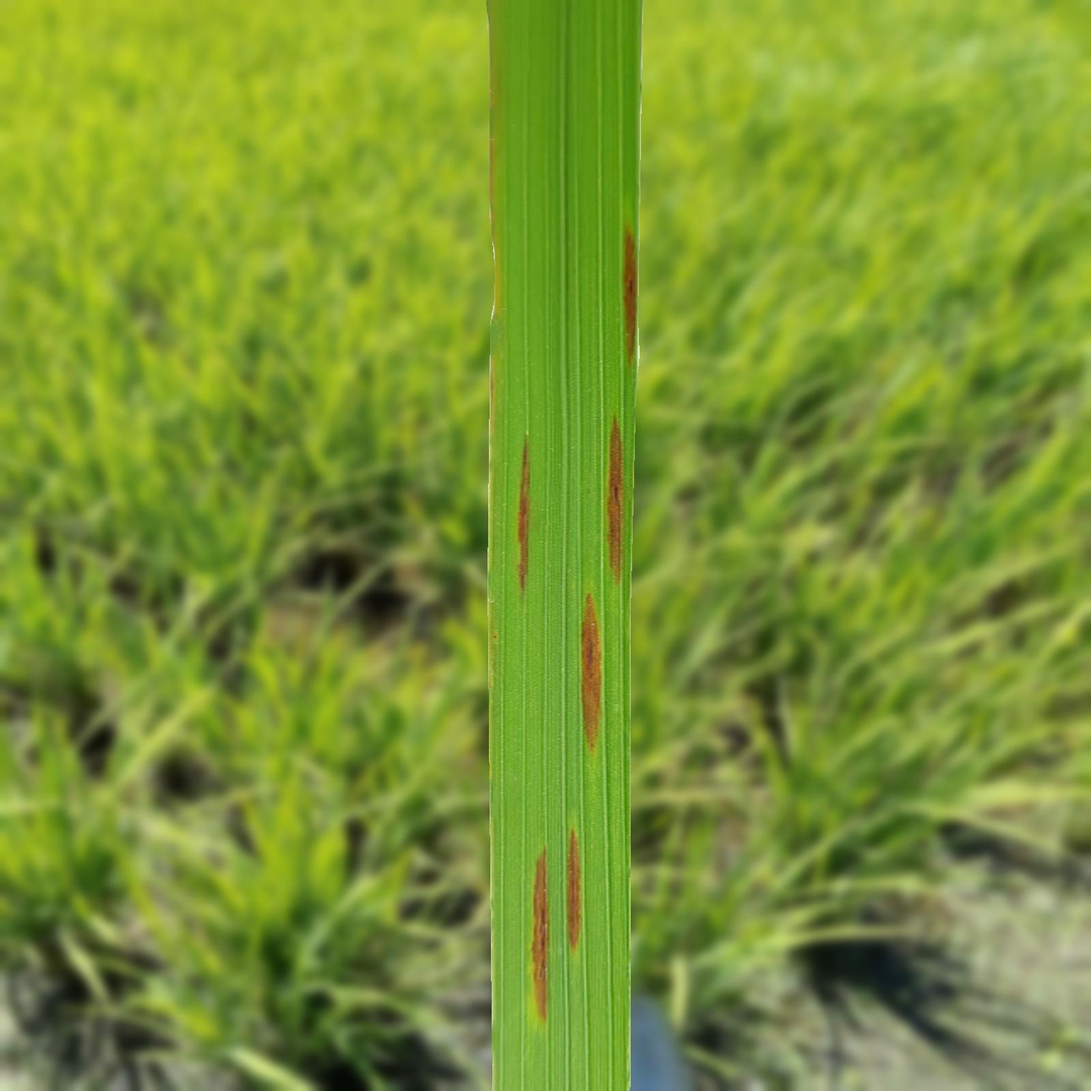LEAF: (486, 0, 642, 1090)
NBS: (581, 594, 601, 752), (531, 848, 548, 1020), (607, 419, 623, 581), (623, 228, 637, 362), (517, 436, 529, 590), (567, 828, 582, 951)
